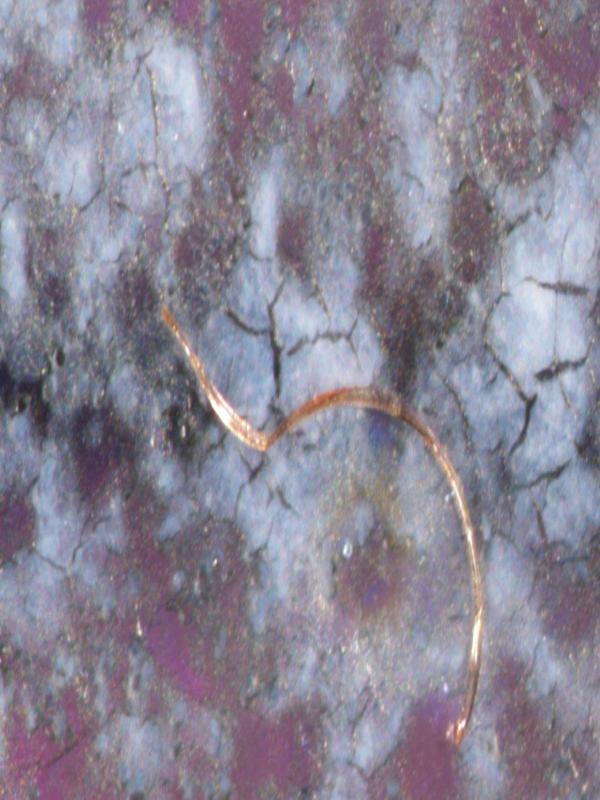microplastic: (160, 299, 484, 748)
